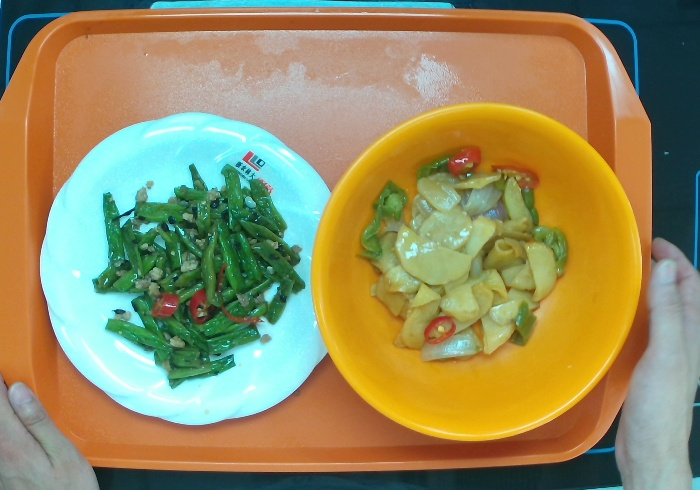ZNLD-Hua_Bian_Wan: (37, 112, 332, 431)
ZNLD-Ju_Se_Tang_Wan: (311, 103, 642, 442)
